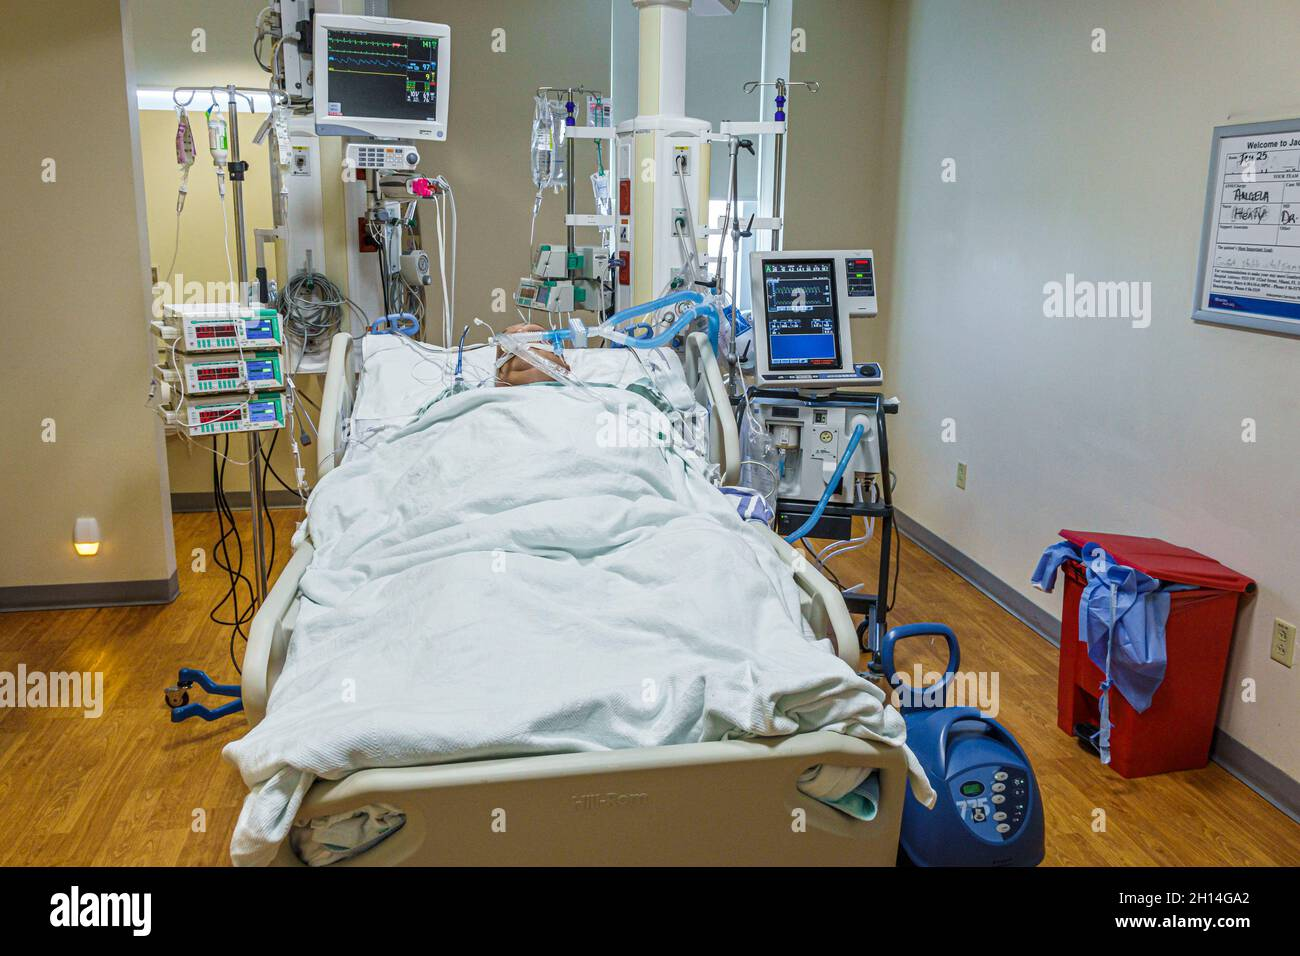bedrail: (749, 519, 860, 669), (686, 332, 742, 484), (316, 332, 354, 480)
bedside_monitor: (309, 12, 451, 142), (748, 256, 849, 374)
breathing_tube: (494, 290, 720, 479), (784, 424, 865, 543)
foot_board: (289, 729, 910, 867)
iv_pole: (174, 80, 291, 611), (742, 78, 823, 251), (537, 87, 602, 288)
syringe_pump: (170, 385, 299, 437), (166, 301, 295, 353), (166, 348, 295, 400)
ventilator: (744, 388, 900, 604)
waste_bin: (1028, 501, 1249, 790)
